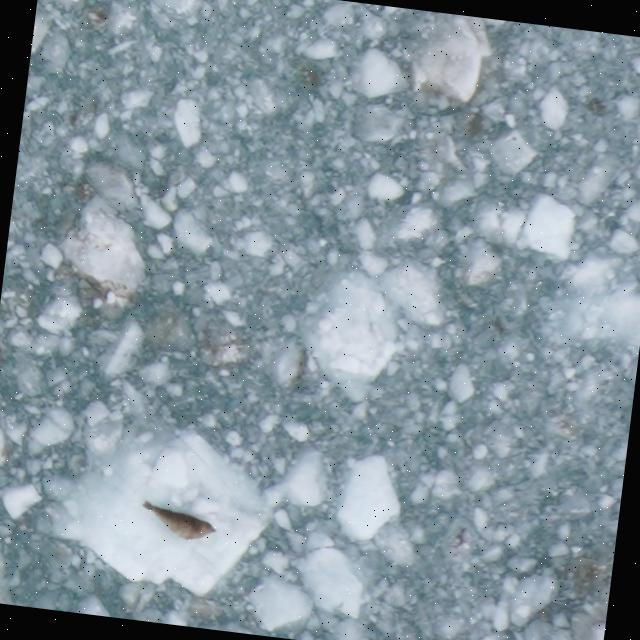seal: (135, 498, 223, 545)
